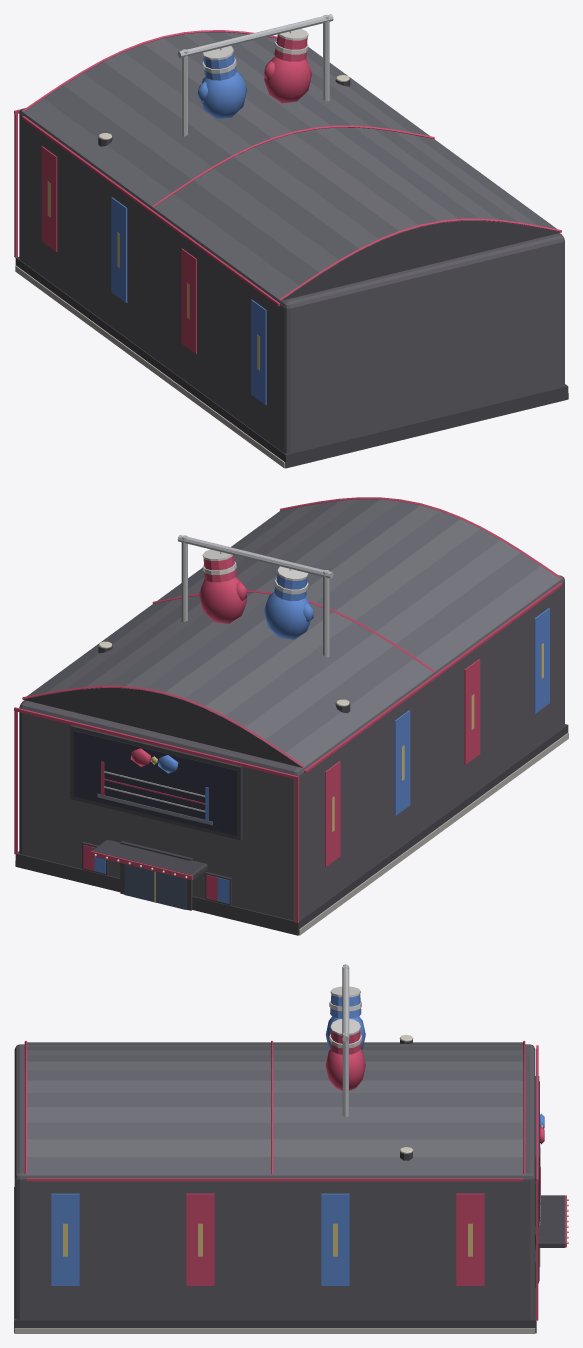
File: centro-boxe-9d74cd5a.glb
3 renders of one model, top to bottom at view 1: azimuth 30°, elevation 25°; view 2: azimuth 150°, elevation 25°; view 3: azimuth 270°, elevation 25°, orthographic. The views are drawn at different scales.
Visible parts, largest first — view 1: centro_boxe_body, centro_boxe_glow; view 2: centro_boxe_body, centro_boxe_glow; view 3: centro_boxe_body, centro_boxe_glow.
Boxes of the visible parts, <box> form: centro_boxe_body: <box>15,14,568,468</box>; centro_boxe_glow: <box>14,30,561,405</box>; centro_boxe_body: <box>15,499,568,935</box>; centro_boxe_glow: <box>14,497,562,923</box>; centro_boxe_body: <box>14,964,565,1333</box>; centro_boxe_glow: <box>24,1035,568,1320</box>.
Size of the model in its own units: 15.7 by 14.52 by 27.4.
